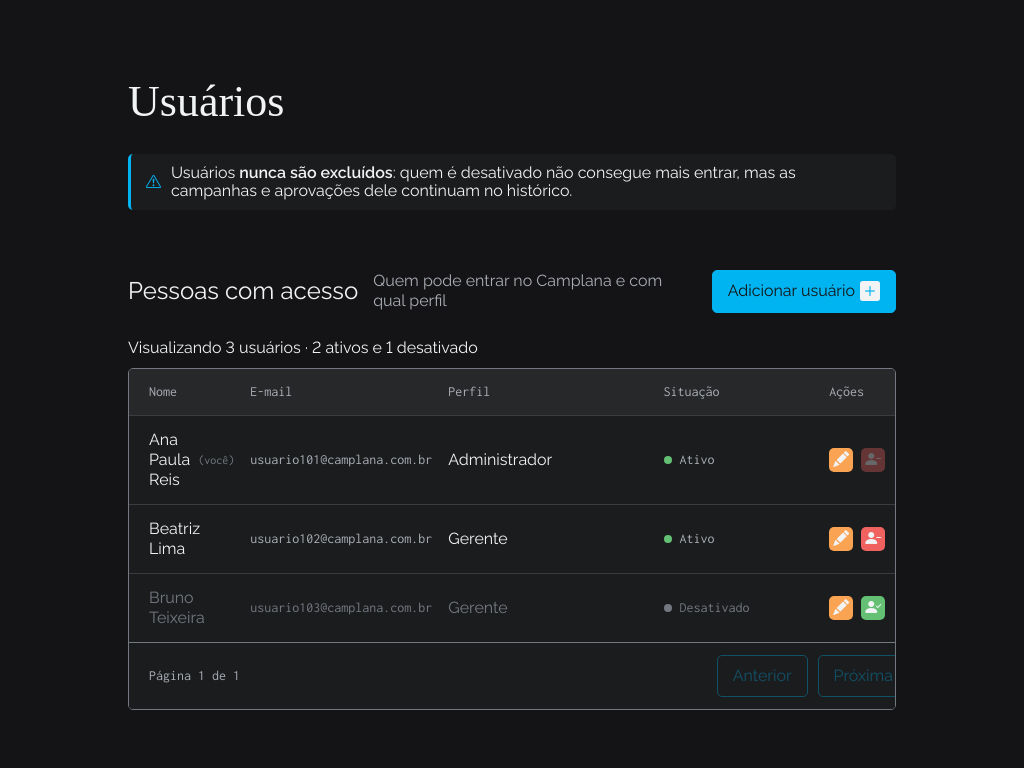
Test: desativar usuário › a falha aparece dentro do modal, que continua aberto para tentar de novo
Click the button named "Desativar Beatriz Lima": (873, 539) [861,527,885,551]
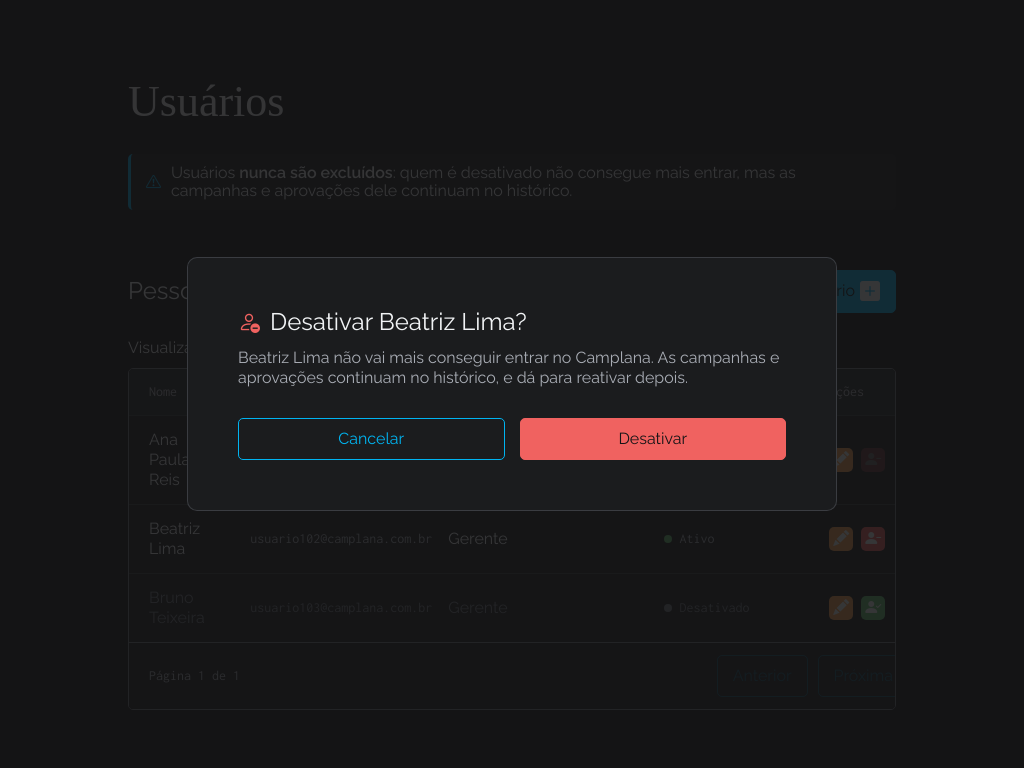
Expected: the heading "Desativar Beatriz Lima?" is shown, [238,307,527,336]
Click the button "Desativar": (653, 439) [520,418,786,460]
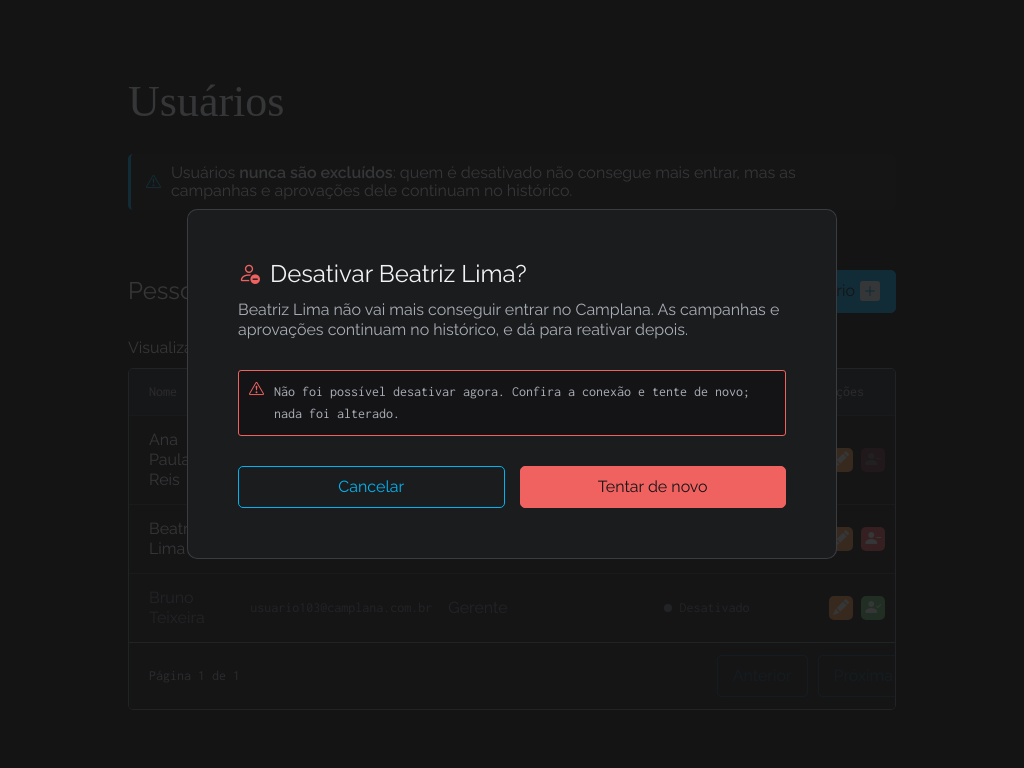
Expected: the button "Tentar de novo" is shown, [520,466,786,508]
Expected: the message shows "Não foi possível desativar agora", [274,384,750,421]
